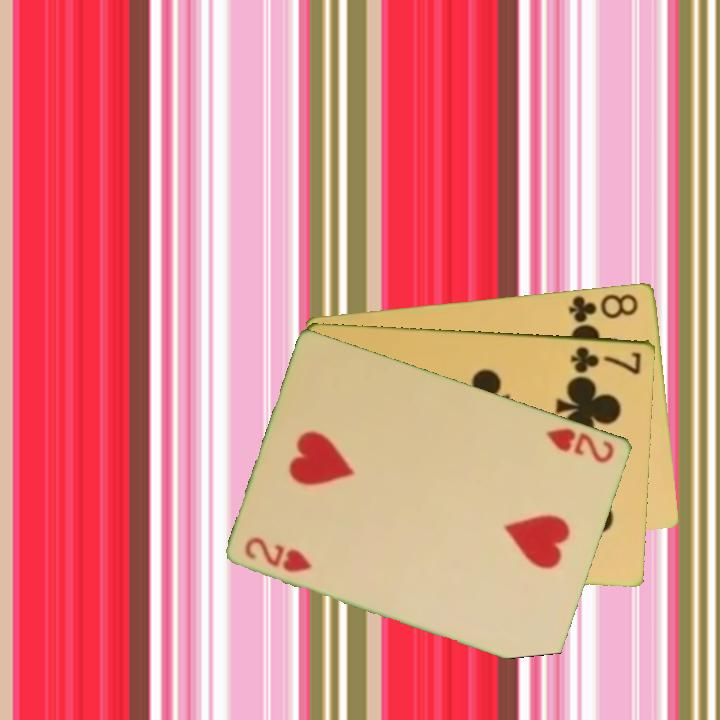2h: (543, 424, 618, 466), (241, 533, 315, 575)
7c: (567, 343, 645, 377)
8c: (565, 289, 642, 325)
